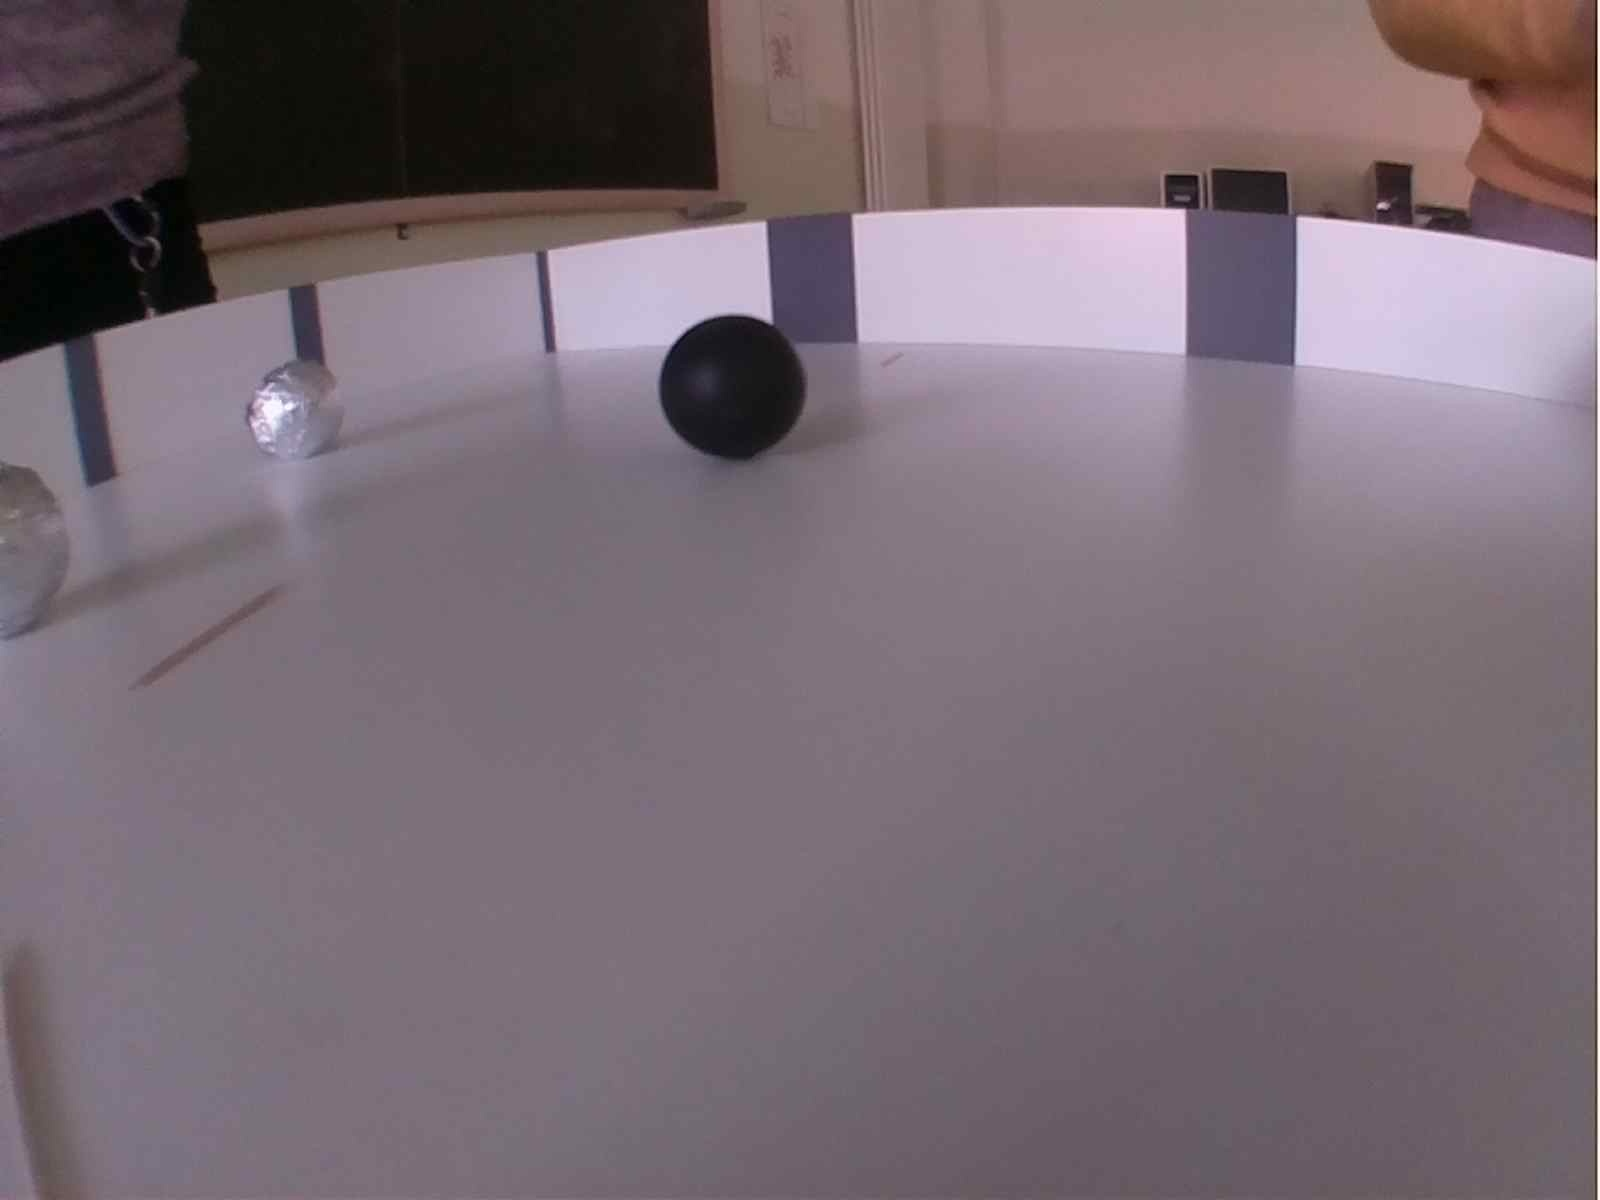bianca: (1, 463, 76, 648), (241, 358, 345, 461)
nera: (656, 319, 809, 463)
